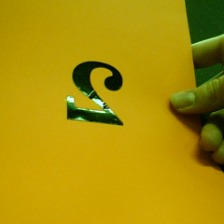orange2: (62, 58, 129, 130)
